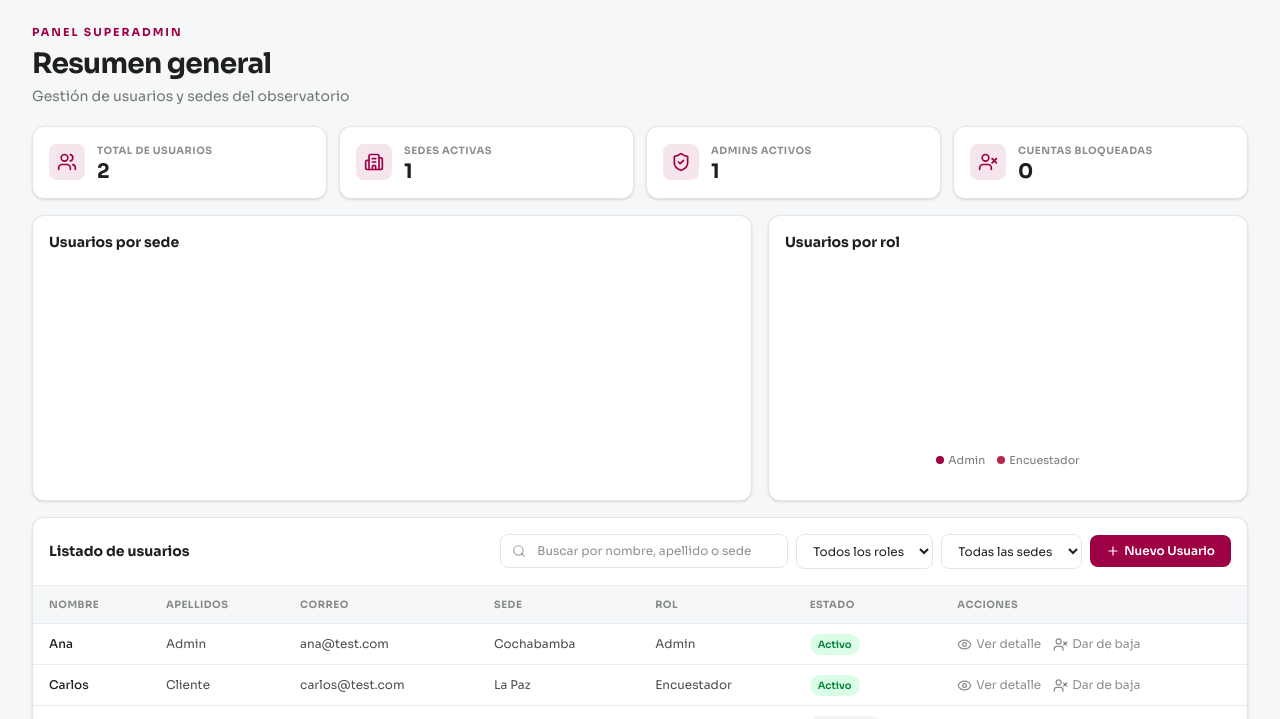
it: UsuariosPage › dar de baja a un usuario pide confirmación y luego llama al PATCH de estado
Later steps or results of the test are not shown.
Expected: the text "Ana" is shown, left=33, top=624, right=150, bottom=665
Click the button with aria-label "Dar de baja a Ana": point(1097, 644) left=1053, top=636, right=1140, bottom=652
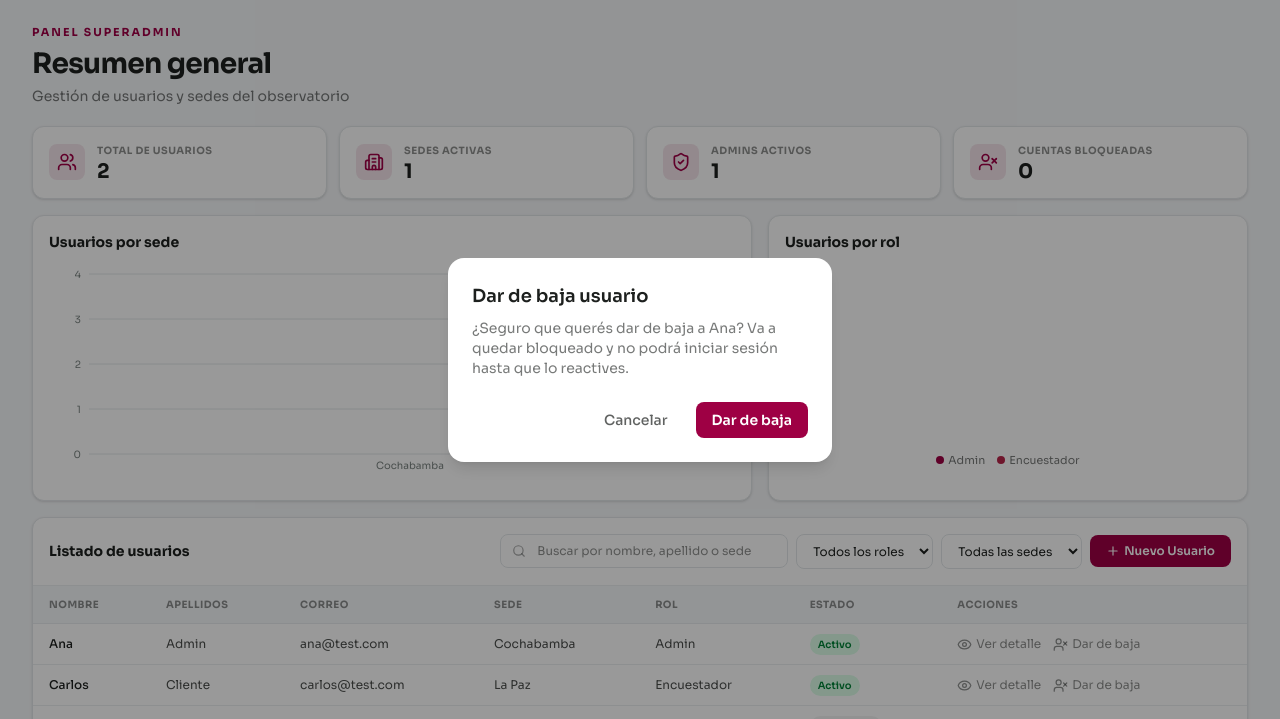
Now the heading "Dar de baja usuario" is shown, box left=472, top=285, right=648, bottom=307
